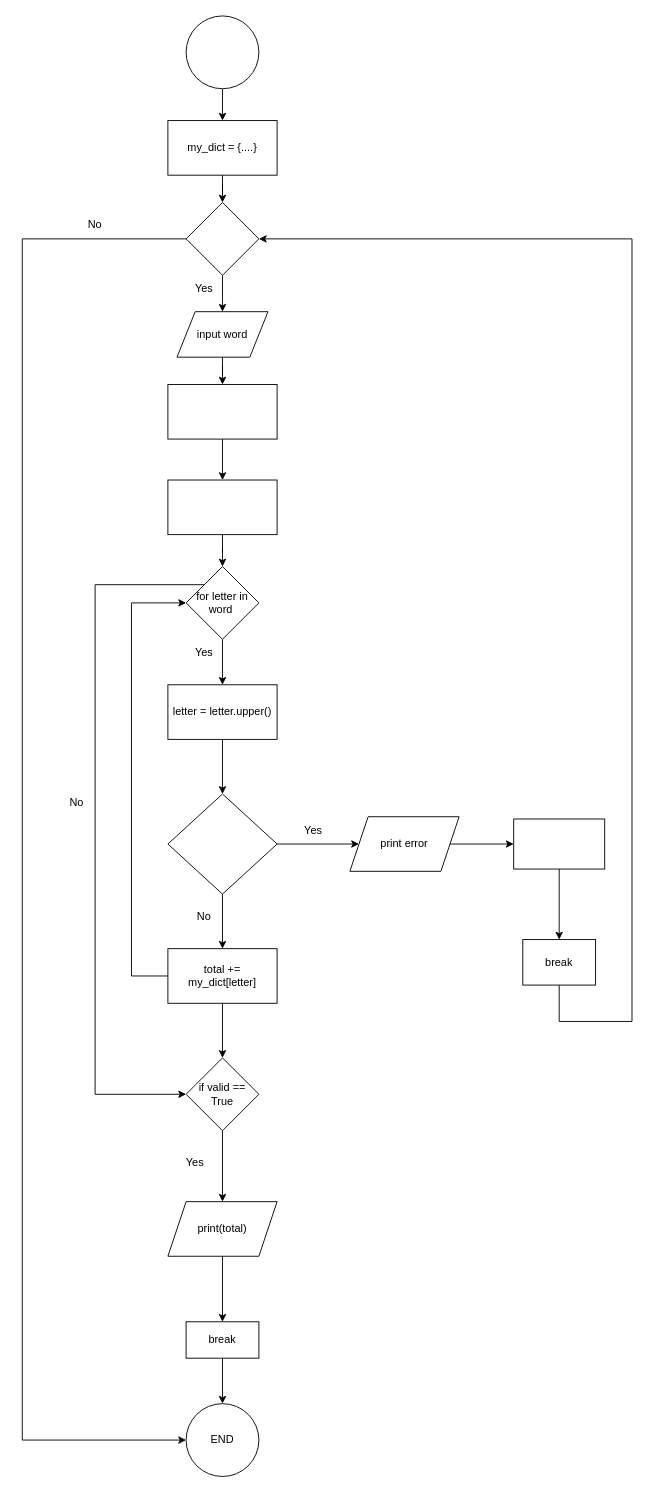
Some shapes in this 655 by 1492 pixel diagram are drawn without their labels. The shapes that lost their labels are listed below. From the top down, each one's centre as x and y in pixels, then its label:
At [222,52]: "START".
At [222,238]: "while True".
At [222,411]: "total = 0".
At [222,507]: "valid = True".
At [222,843]: "if letter not in my_dict".
At [559,843]: "valid = False".
